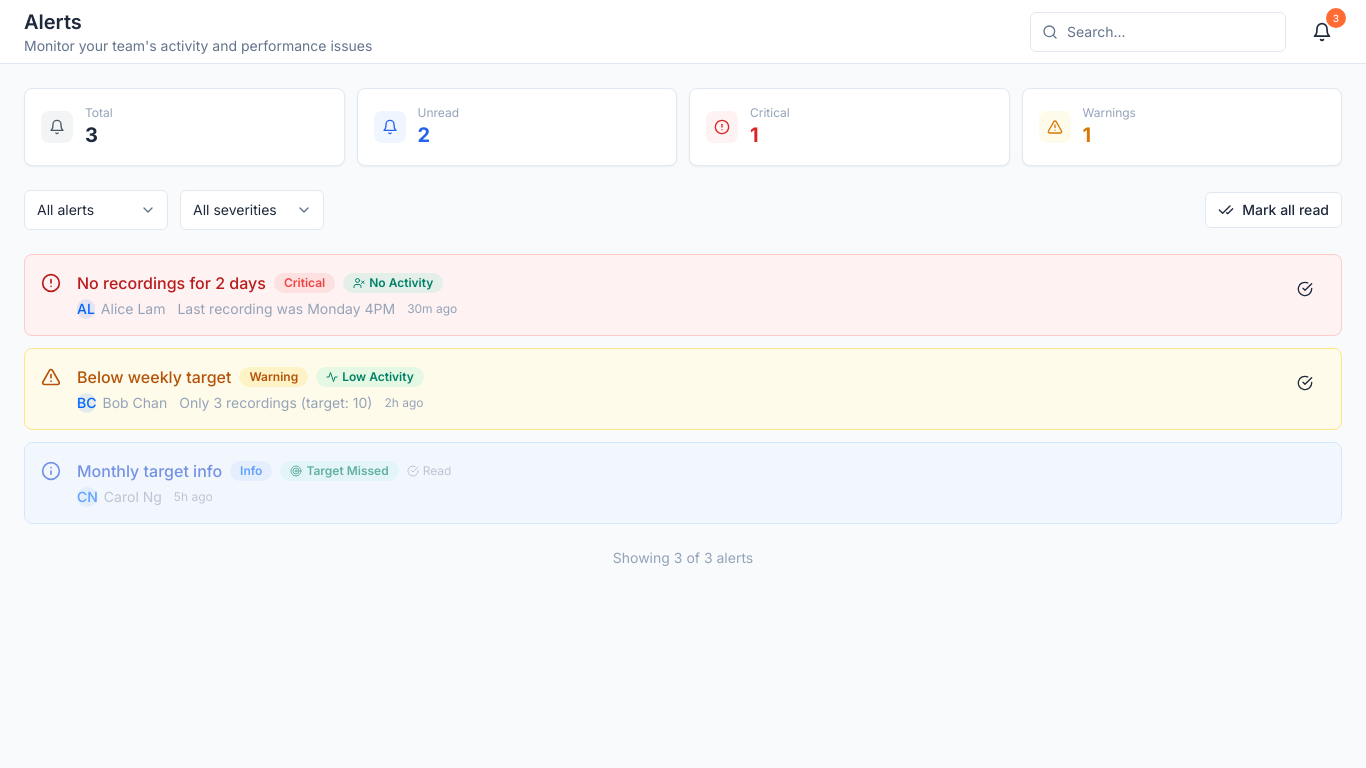
AlertsPage › filtering › filters to critical only
Select "Critical only" in the dropdown with test id "severity-filter". click: (252, 210)
box: [180,190,324,230]
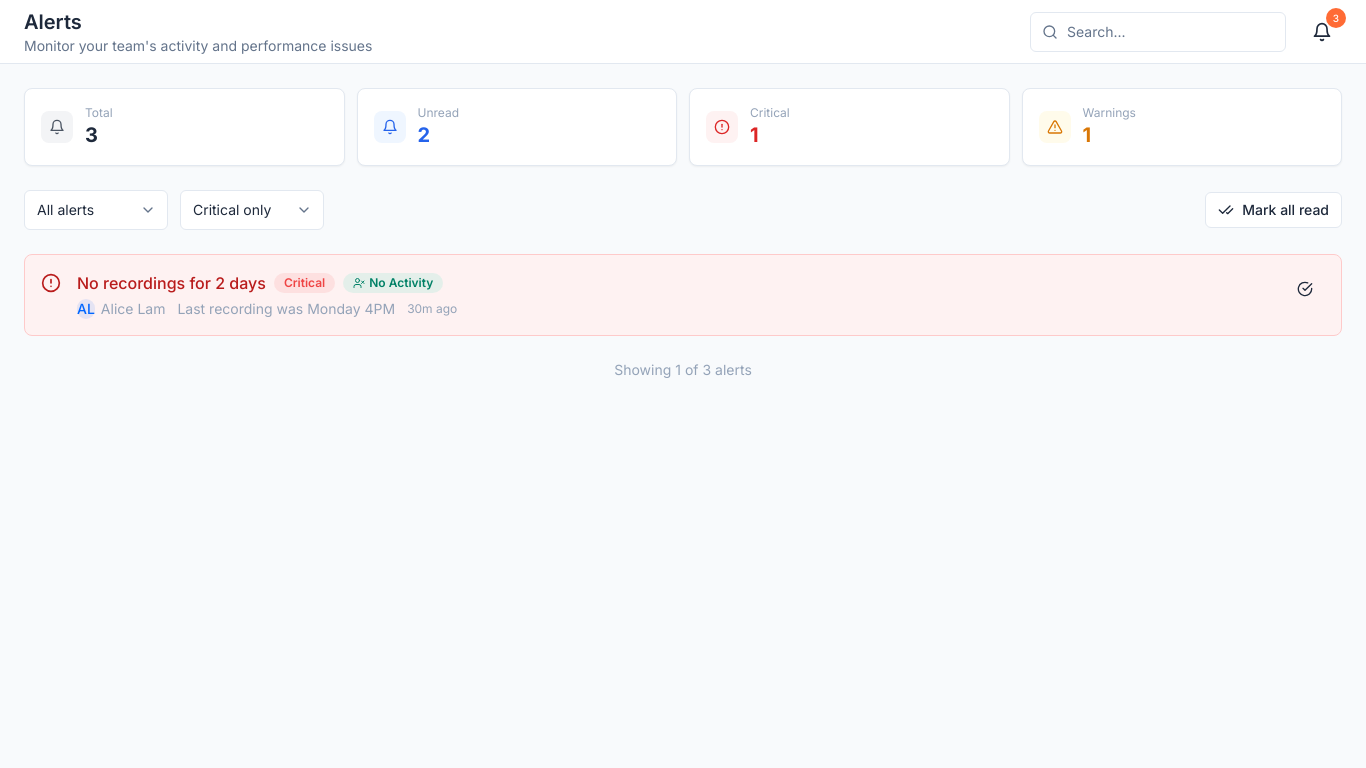
Check: the text "No recordings for 2 days" is shown, box [77,271,266,295]
Check: the number of elements with test id "alert-card" is 1, box [24,254,1342,336]
